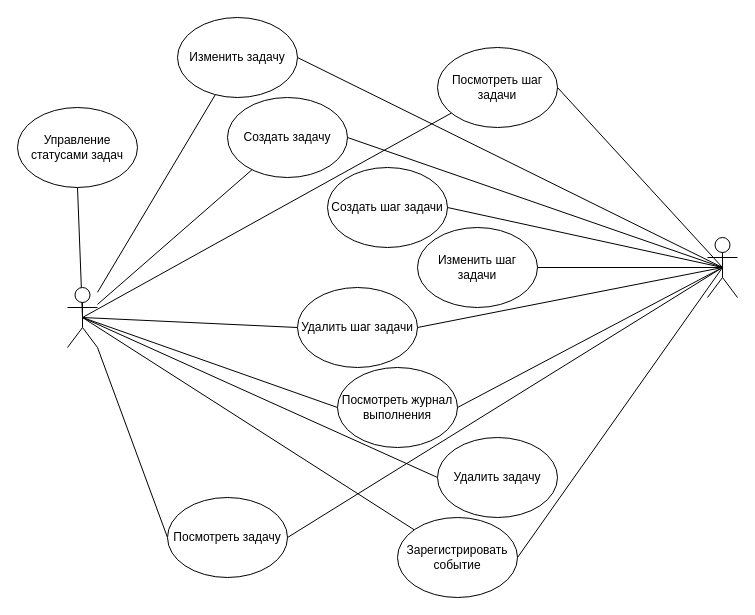
Image size: 755x615. Some labels were removed from this diagram. The centre of each missing label's shape, as x and y in pixels:
"Manager" goes at [82,317].
"User" goes at [722,267].
